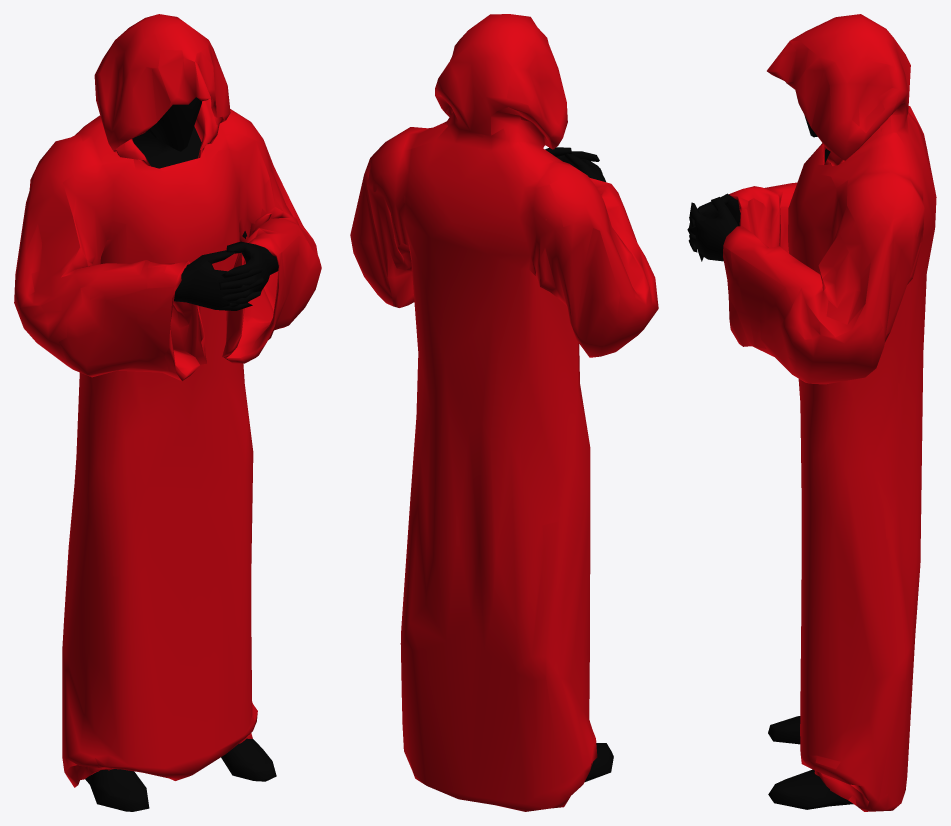
File: Statue_RobeStanding.fbx
The picture shows the model from 3 angles, left to right: view 1: azimuth 30°, elevation 25°; view 2: azimuth 150°, elevation 25°; view 3: azimuth 270°, elevation 25°; orthographic projection.
Visible parts, largest first — view 1: Statue_RobeStanding; view 2: Statue_RobeStanding; view 3: Statue_RobeStanding.
Part boxes in pixels (bbox=[...]): Statue_RobeStanding: bbox=[14, 14, 321, 811]; Statue_RobeStanding: bbox=[350, 14, 658, 811]; Statue_RobeStanding: bbox=[687, 14, 936, 811].
Bounding box in the file's own units: 146 × 109 × 368.
